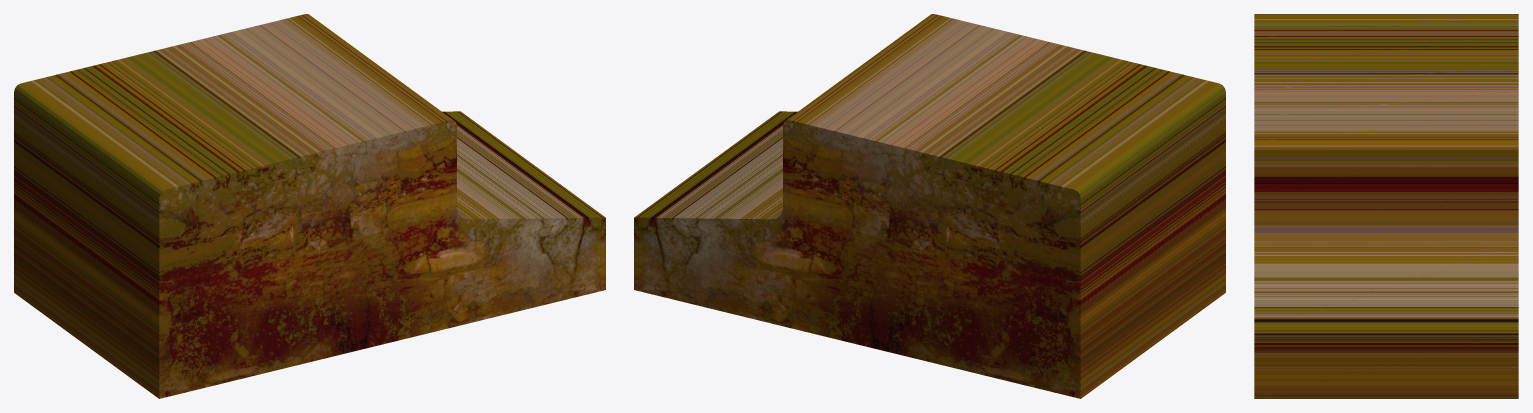
File: test-ground.glb
The picture shows the model from 3 angles, left to right: view 1: azimuth 30°, elevation 25°; view 2: azimuth 150°, elevation 25°; view 3: azimuth 270°, elevation 25°; orthographic projection. The views are drawn at different scales.
Parts seen in each view (by area): view 1: TestGroundPlane_Baked-col; view 2: TestGroundPlane_Baked-col; view 3: TestGroundPlane_Baked-col.
Part boxes in pixels (x1,y1,x2,y2): TestGroundPlane_Baked-col: (14,14,605,398); TestGroundPlane_Baked-col: (634,14,1225,398); TestGroundPlane_Baked-col: (1254,14,1518,398).
Size of the model in its own units: 9 by 4 by 5.06.
1 material, 1 textured.
